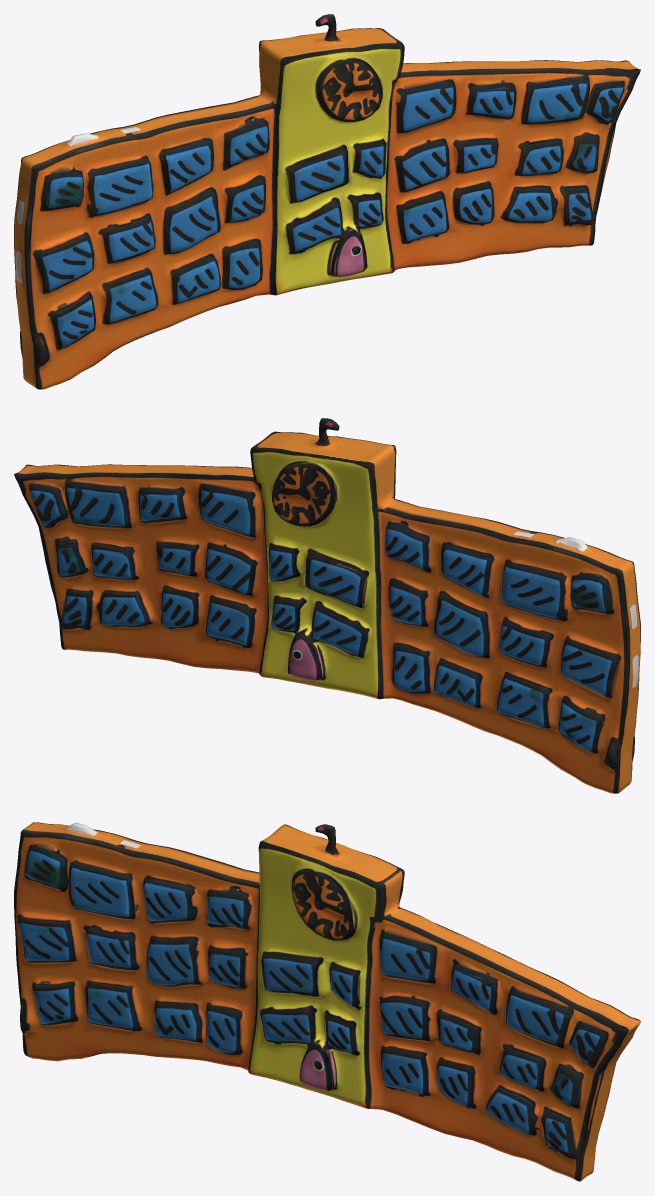
File: school.glb
3 renders of one model, top to bottom at view 1: azimuth 30°, elevation 25°; view 2: azimuth 150°, elevation 25°; view 3: azimuth 330°, elevation 25°, orthographic.
Visible parts, largest first — view 1: tripo_node_2af0b8c5-2b40-456a-92ce-a60eae47b592; view 2: tripo_node_2af0b8c5-2b40-456a-92ce-a60eae47b592; view 3: tripo_node_2af0b8c5-2b40-456a-92ce-a60eae47b592.
Part boxes in pixels (x1,y1,x2,y2): tripo_node_2af0b8c5-2b40-456a-92ce-a60eae47b592: (14,14,640,389); tripo_node_2af0b8c5-2b40-456a-92ce-a60eae47b592: (14,418,640,793); tripo_node_2af0b8c5-2b40-456a-92ce-a60eae47b592: (14,822,640,1181).
Size of the model in its own units: 0.9794 by 0.454 by 0.1099.
Materials: 1 (1 with a texture image).
